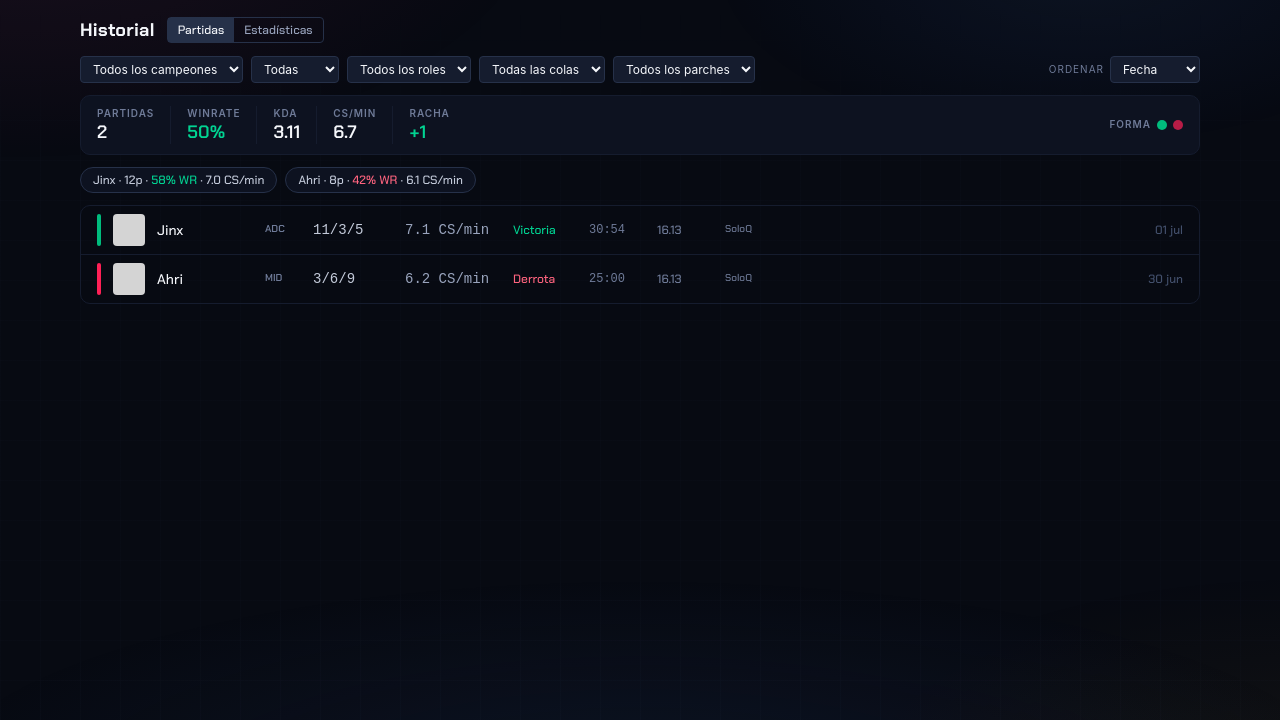
Scenario: HistoryView › filters by champion
The width and height of the screenshot is (1280, 720).
Check: the text "Victoria" is shown, box [513,222,556,238]
Select "Jinx" in the dropdown named "Filtrar por campeón": (162, 70) [80,56,243,83]
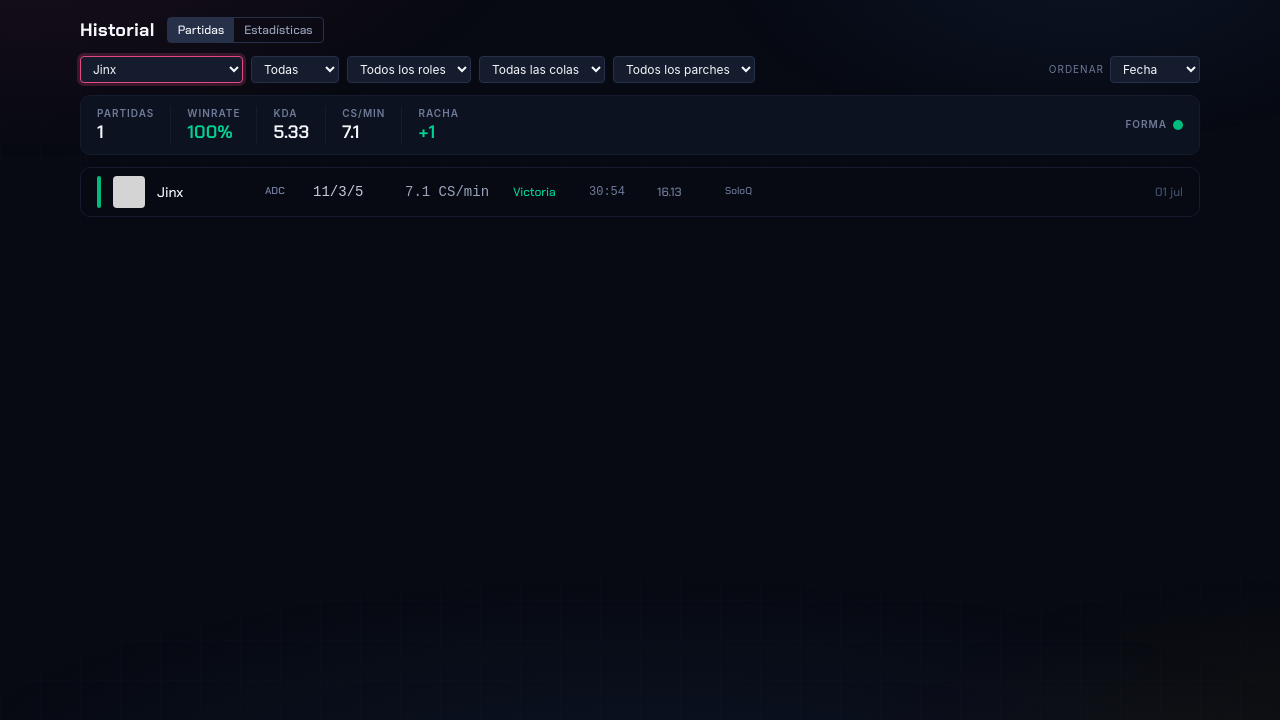
Check: the text "11/3/5" is shown, box [313,184,363,200]
Check: the button "Derrota" is gone
